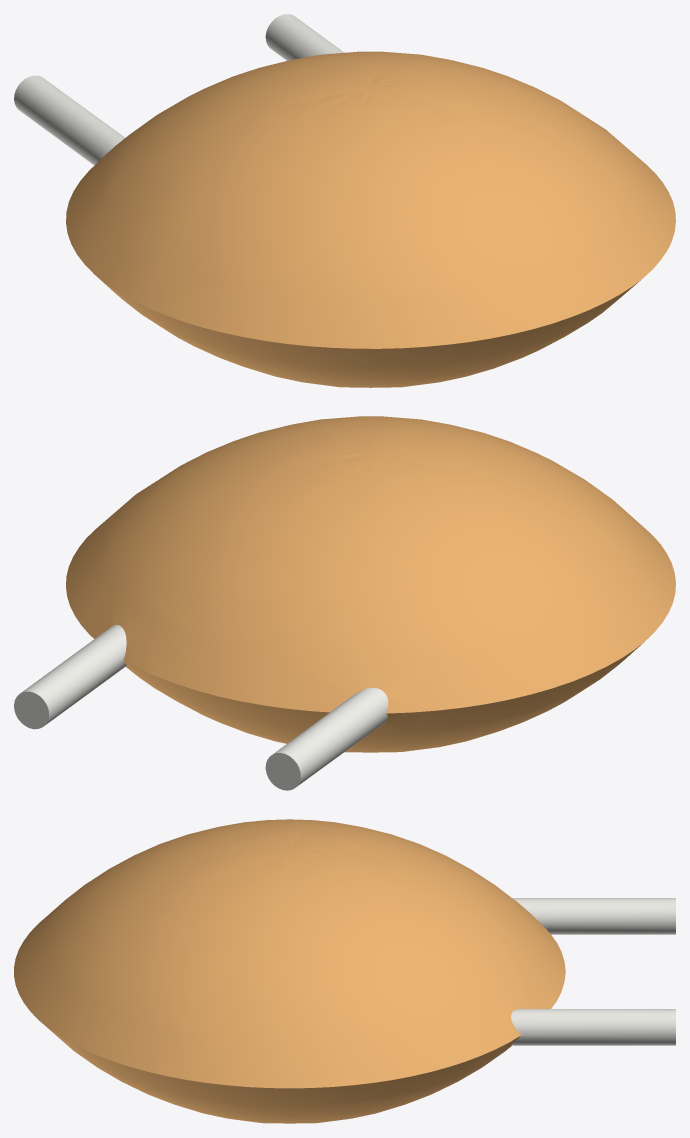
Rendered from C_Disc_D10.5mm_W5.0mm_P5.00mm.glb.
The picture shows the model from 3 angles, top to bottom: view 1: azimuth 30°, elevation 25°; view 2: azimuth 150°, elevation 25°; view 3: azimuth 270°, elevation 25°; orthographic projection. The views are drawn at different scales.
Parts seen in each view (by area): view 1: Shape_IndexedFaceSet.003, Shape_IndexedFaceSet.002, Shape_IndexedFaceSet.001, Shape_IndexedFaceSet.004; view 2: Shape_IndexedFaceSet.003, Shape_IndexedFaceSet.002, Shape_IndexedFaceSet.001, Shape_IndexedFaceSet.004, Shape_IndexedFaceSet.005, Shape_IndexedFaceSet; view 3: Shape_IndexedFaceSet.003, Shape_IndexedFaceSet.002, Shape_IndexedFaceSet.004, Shape_IndexedFaceSet.001.
Boxes of the visible parts, <box> form: Shape_IndexedFaceSet.003: <box>66,51,675,348</box>; Shape_IndexedFaceSet.002: <box>97,172,669,387</box>; Shape_IndexedFaceSet.001: <box>14,75,124,165</box>; Shape_IndexedFaceSet.004: <box>265,14,344,60</box>; Shape_IndexedFaceSet.003: <box>66,416,675,713</box>; Shape_IndexedFaceSet.002: <box>91,636,643,752</box>; Shape_IndexedFaceSet.001: <box>273,687,388,786</box>; Shape_IndexedFaceSet.004: <box>20,625,126,724</box>; Shape_IndexedFaceSet.005: <box>14,691,48,729</box>; Shape_IndexedFaceSet: <box>265,753,300,790</box>; Shape_IndexedFaceSet.003: <box>14,819,565,1088</box>; Shape_IndexedFaceSet.002: <box>42,1023,519,1123</box>; Shape_IndexedFaceSet.004: <box>511,1009,675,1045</box>; Shape_IndexedFaceSet.001: <box>512,898,675,934</box>.
Bounding box in the file's own units: 4.13 × 1.97 × 4.96.
